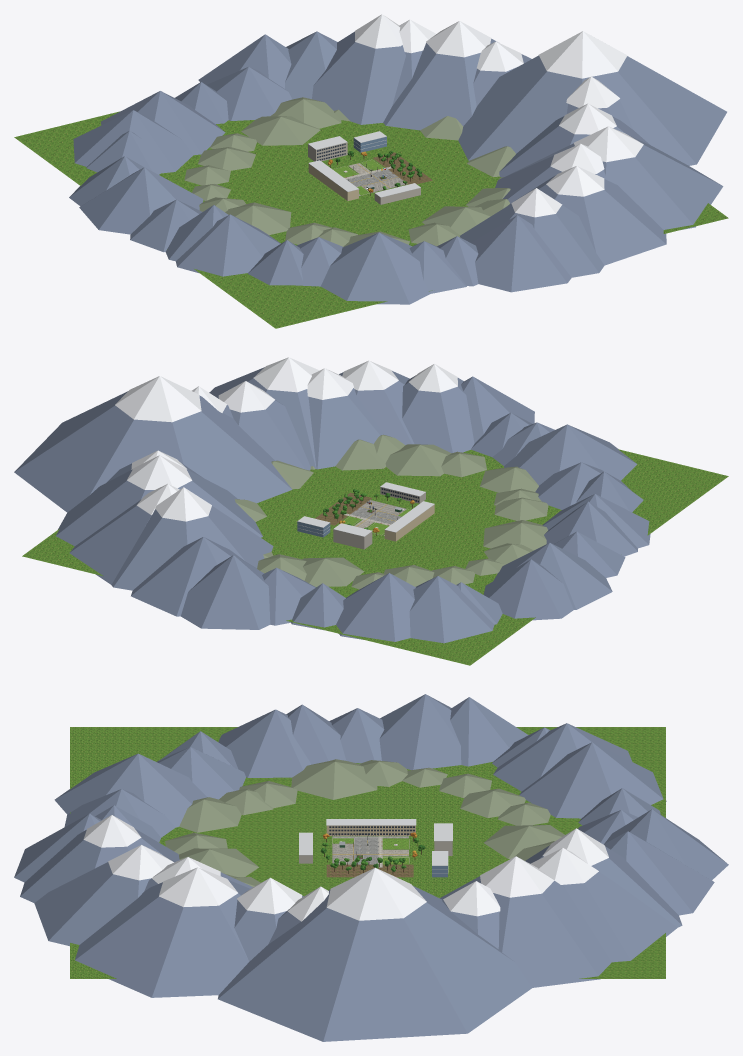
The model's file is plaza.glb.
The picture shows the model from 3 angles, top to bottom: view 1: azimuth 30°, elevation 25°; view 2: azimuth 150°, elevation 25°; view 3: azimuth 270°, elevation 25°; orthographic projection. The views are drawn at different scales.
Visible parts, largest first — view 1: cerro, suelo_pasto, nieve, cerro_bajo, marco, edificio_gris, tierra; view 2: cerro, suelo_pasto, cerro_bajo, nieve, marco, edificio_gris, tierra; view 3: cerro, suelo_pasto, nieve, cerro_bajo, marco, tierra, edificio, adoquin_plaza.
Part boxes in pixels (box(x1,y1,x2,y2)): cerro: box(69, 31, 726, 304); suelo_pasto: box(14, 111, 728, 328); nieve: box(355, 14, 643, 217); cerro_bajo: box(184, 97, 515, 246); marco: box(308, 131, 420, 197); edificio_gris: box(308, 142, 420, 204); tierra: box(373, 152, 432, 184); cerro: box(14, 367, 650, 643); suelo_pasto: box(22, 449, 728, 665); cerro_bajo: box(234, 434, 548, 589); nieve: box(115, 357, 457, 521); marco: box(297, 482, 434, 536); edificio_gris: box(333, 487, 425, 549); tierra: box(315, 492, 372, 525); cerro: box(14, 694, 728, 1041); suelo_pasto: box(70, 727, 665, 978); nieve: box(83, 815, 608, 921); cerro_bajo: box(165, 759, 564, 886); marco: box(299, 819, 452, 873); tierra: box(326, 864, 413, 877); edificio: box(326, 825, 415, 835); adoquin_plaza: box(354, 838, 378, 864).
Bounding box in the file's own units: 680 × 103 × 624.
Materials: 45 (13 with a texture image).
